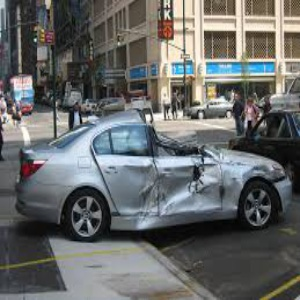door: (120, 162, 223, 213)
